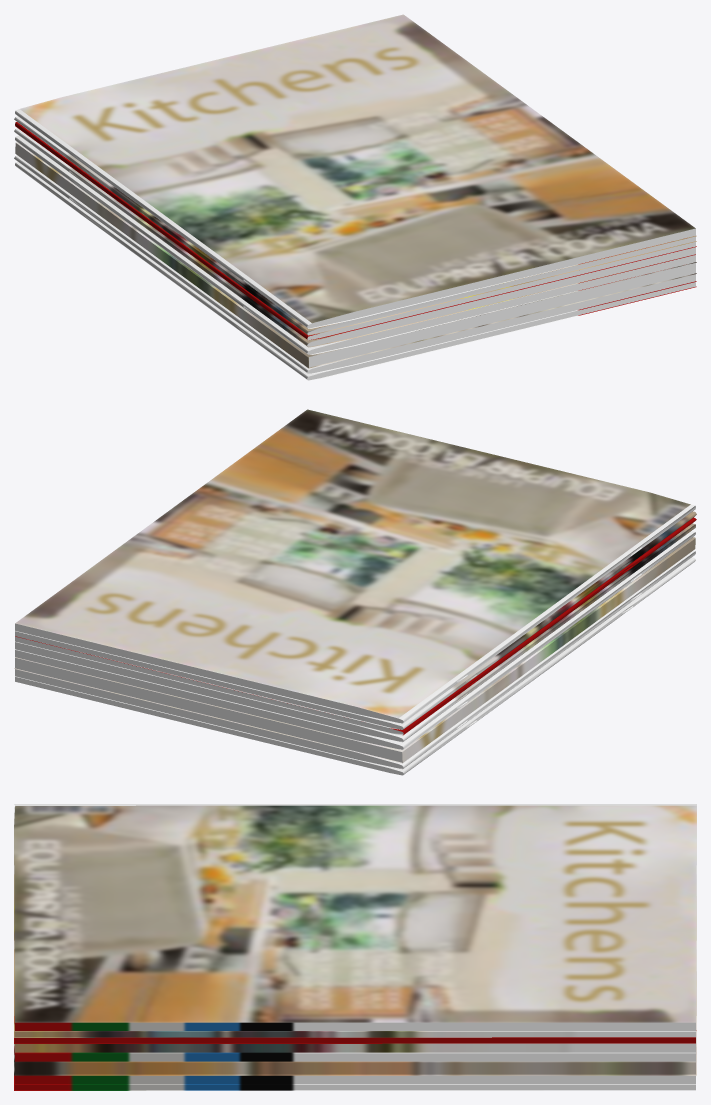
File: Magazines.FBX
The picture shows the model from 3 angles, top to bottom: view 1: azimuth 30°, elevation 25°; view 2: azimuth 150°, elevation 25°; view 3: azimuth 270°, elevation 25°; orthographic projection. The views are drawn at different scales.
Parts seen in each view (by area): view 1: magazines; view 2: magazines; view 3: magazines.
Part boxes in pixels (x1,y1,x2,y2): magazines: (14,14,696,380); magazines: (14,409,696,775); magazines: (14,804,696,1090).
Bounding box in the file's own units: 21.5 × 28 × 3.09.
Materials: 1 (1 with a texture image).
